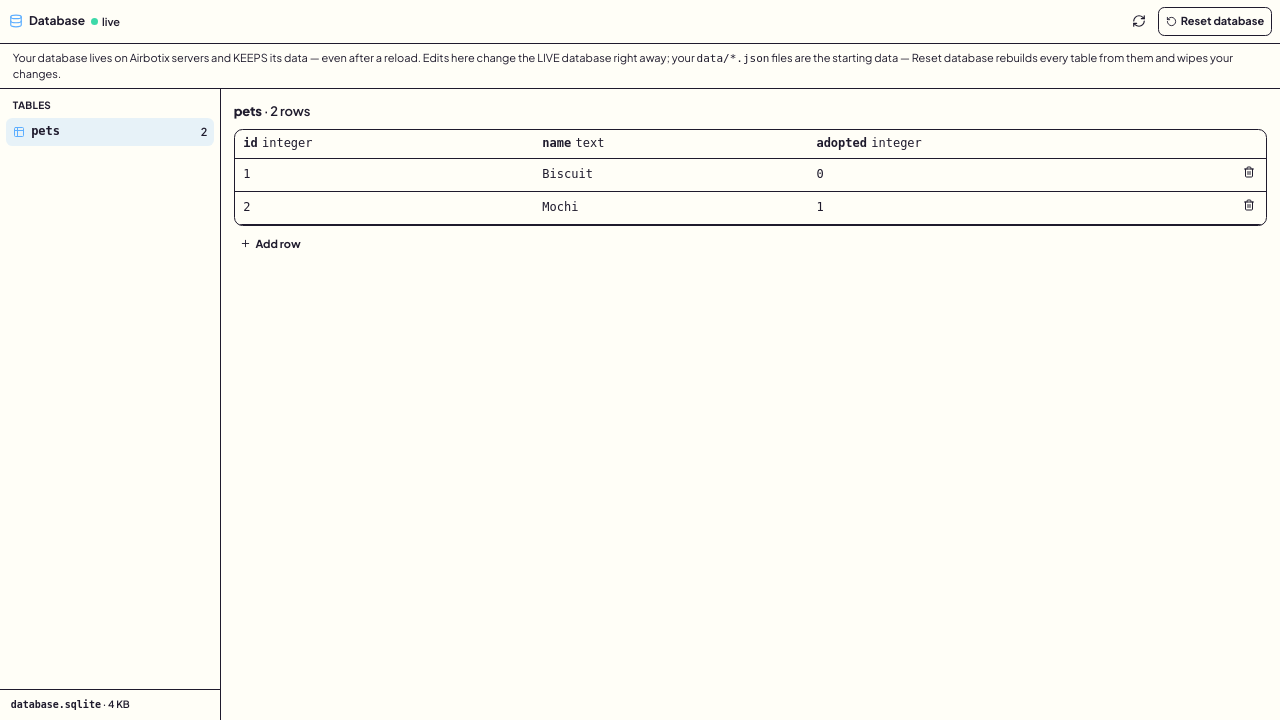
Test case: DbTable — Add row › INSERTs ""/NULL placeholders, omits the integer id, then focuses the new row's first cell
Expected: the element with test id "db-collection-pets" is shown, left=234, top=103, right=1267, bottom=255
Click the button with test id "db-add-row-pets": [270, 244] box left=234, top=232, right=307, bottom=255
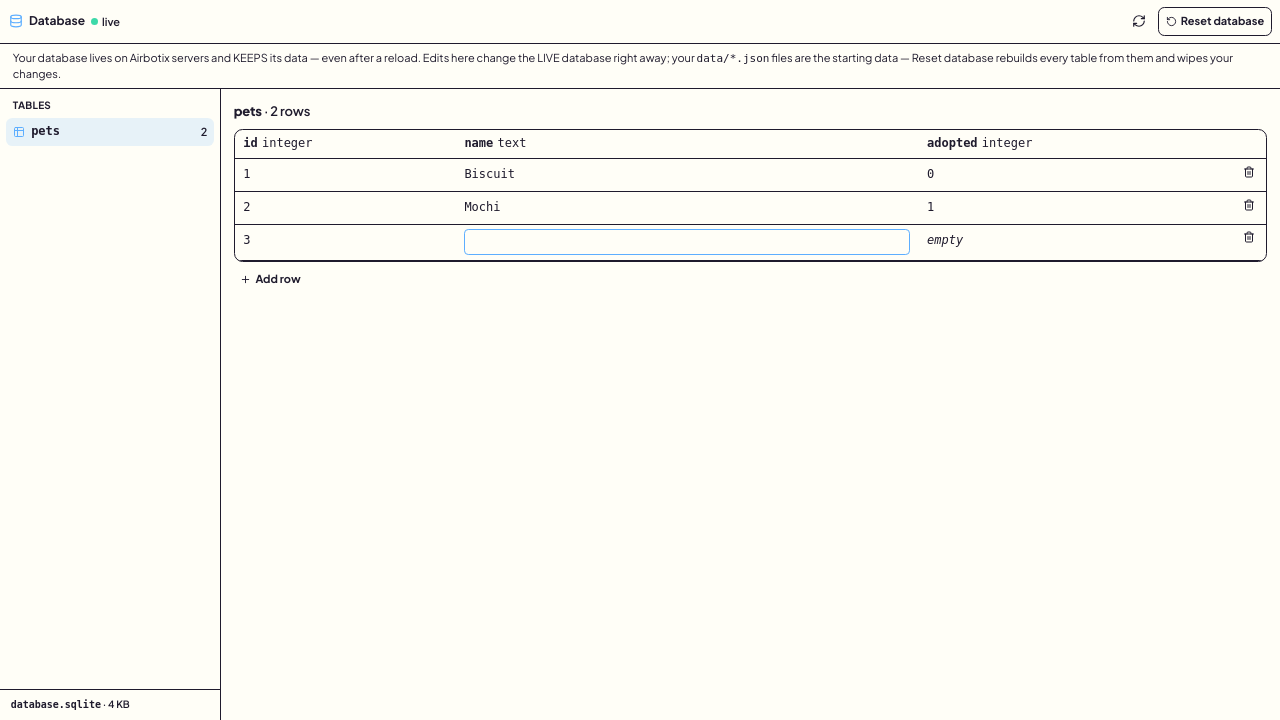
Now the field is shown, box left=464, top=229, right=910, bottom=255
